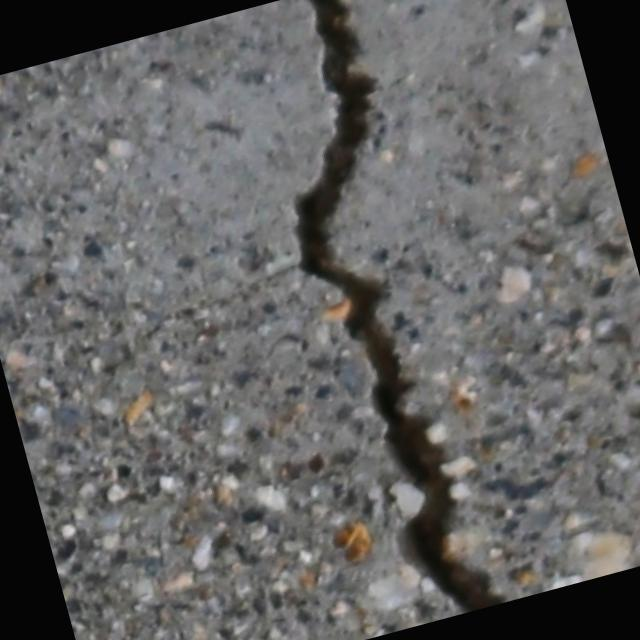crack: (224, 0, 514, 629)
